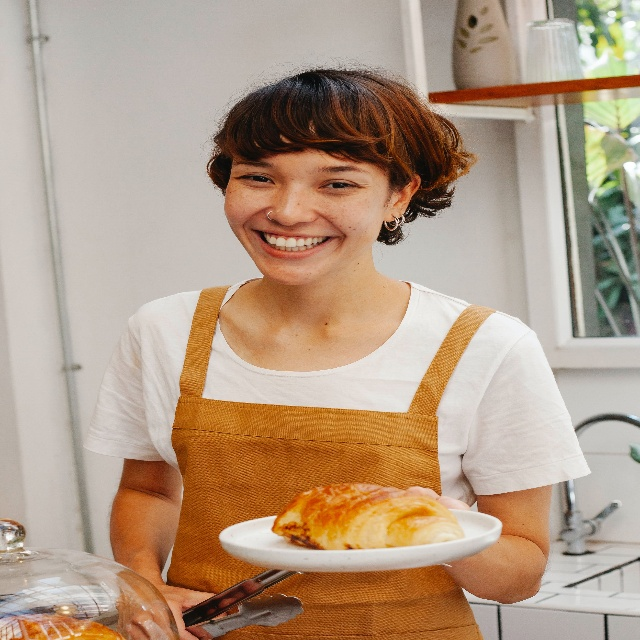Sin_guantes: (158, 582, 227, 640)
